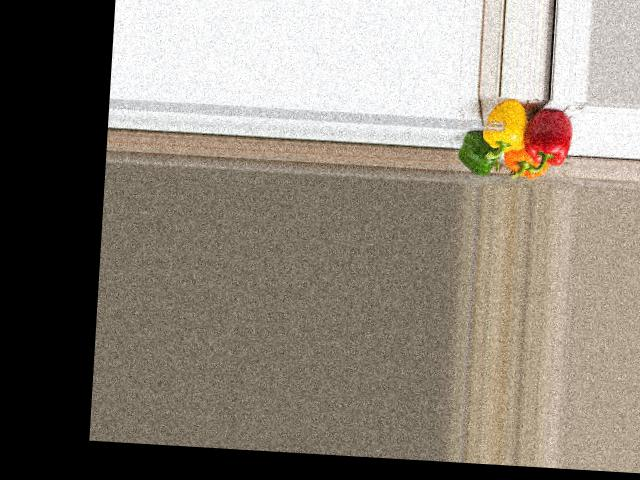bell_pepper: (501, 145, 550, 180)
